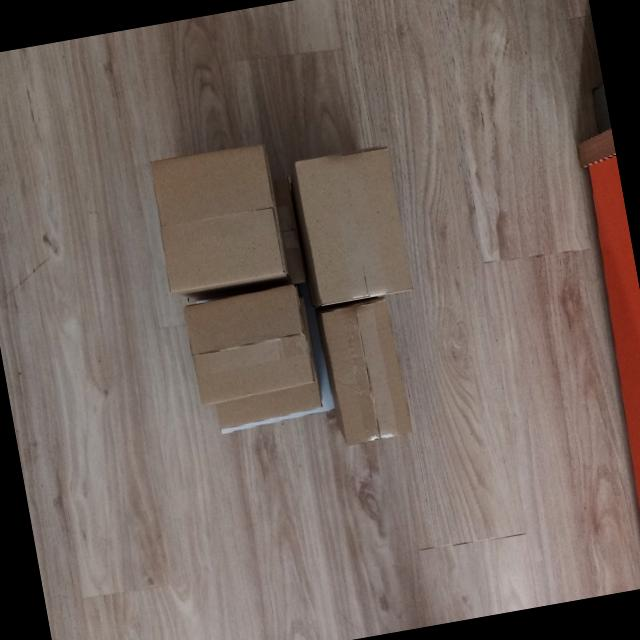box: (142, 138, 298, 302), (284, 138, 419, 311), (178, 280, 321, 414), (310, 294, 418, 452)
